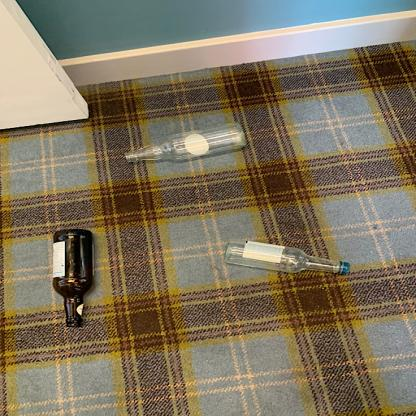trash: (126, 119, 248, 168), (223, 240, 351, 279), (55, 228, 95, 329)
